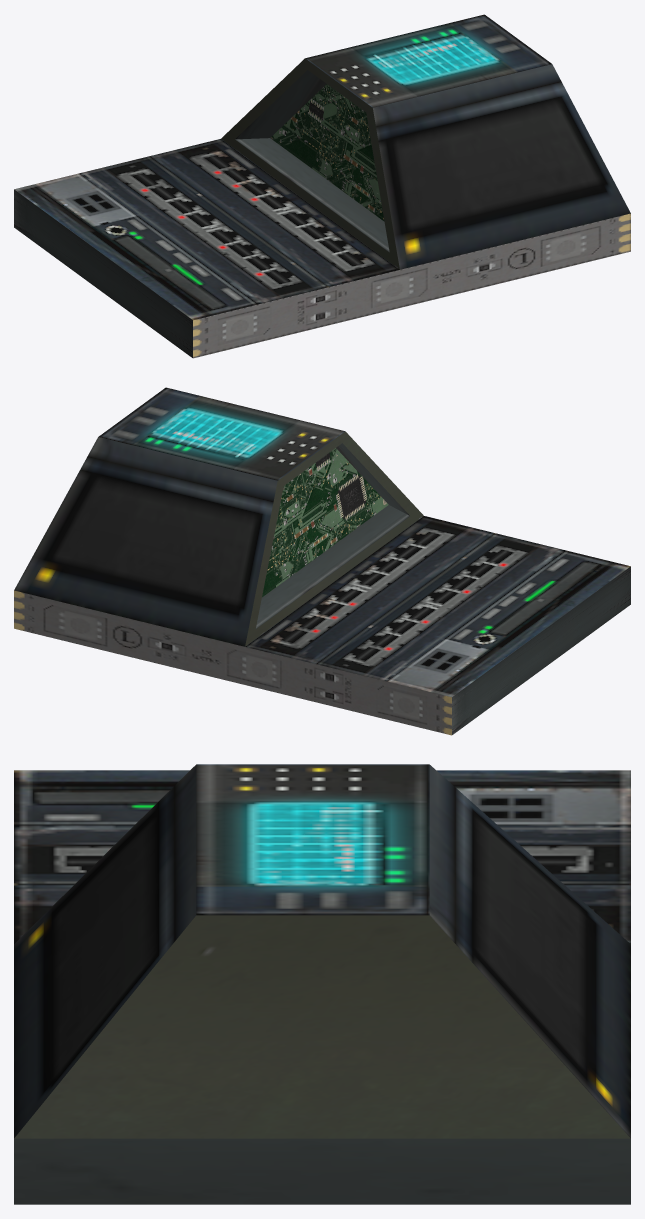
The model's file is Controller_06.fbx.
The picture shows the model from 3 angles, top to bottom: view 1: azimuth 30°, elevation 25°; view 2: azimuth 150°, elevation 25°; view 3: azimuth 270°, elevation 25°; orthographic projection. The views are drawn at different scales.
Visible parts, largest first — view 1: Controller_06; view 2: Controller_06; view 3: Controller_06.
Part boxes in pixels (x1=…): Controller_06: x1=14, y1=14, x2=630, y2=358; Controller_06: x1=14, y1=387, x2=630, y2=735; Controller_06: x1=14, y1=764, x2=630, y2=1204.
Bounding box in the file's own units: 42.55 × 14.4 × 30.12.
